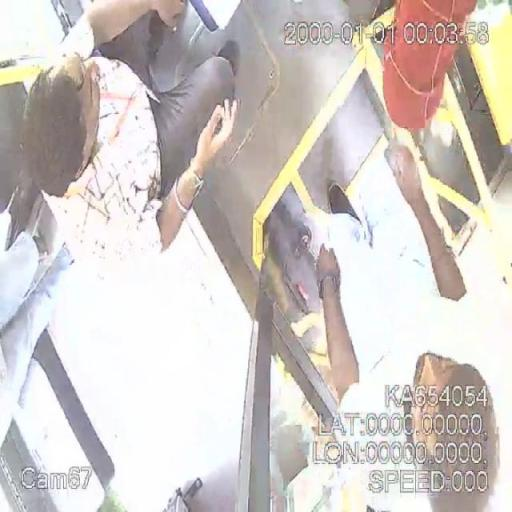persona: (17, 3, 241, 277)
